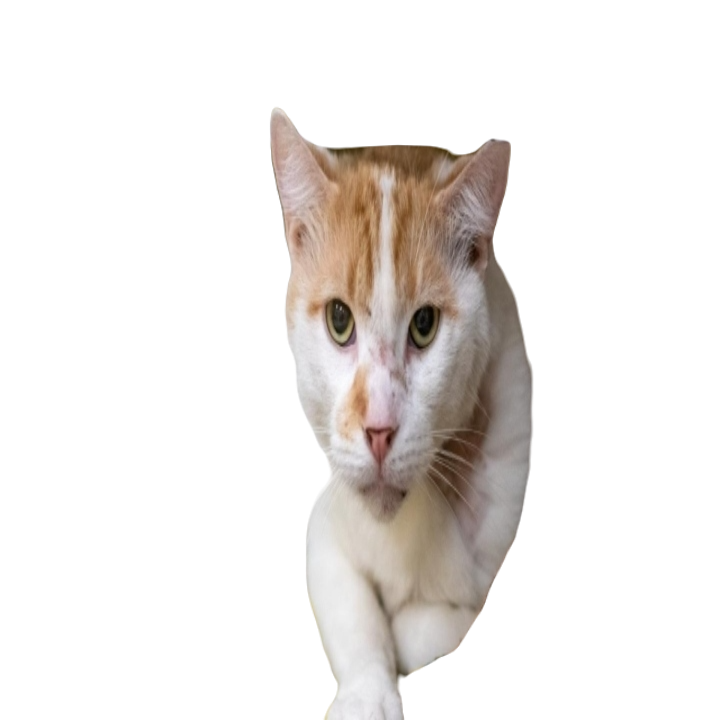Cat: (253, 78, 563, 719)
